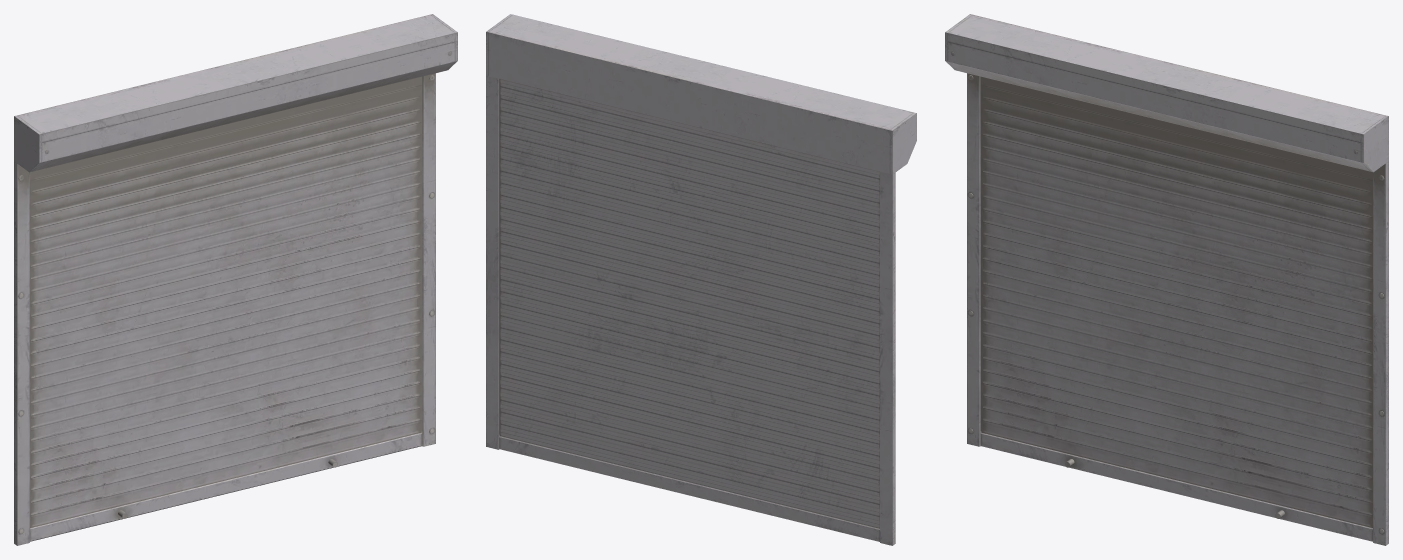
File: rollershutter_window_02.glb
The picture shows the model from 3 angles, left to right: view 1: azimuth 30°, elevation 25°; view 2: azimuth 150°, elevation 25°; view 3: azimuth 330°, elevation 25°; orthographic projection. The views are drawn at different scales.
Visible parts, largest first — view 1: rollershutter_window_02; view 2: rollershutter_window_02; view 3: rollershutter_window_02.
Part boxes in pixels (bbox=[...]): rollershutter_window_02: bbox=[14, 14, 457, 545]; rollershutter_window_02: bbox=[486, 14, 916, 545]; rollershutter_window_02: bbox=[945, 14, 1388, 545].
Bounding box in the file's own units: 1.6 × 1.56 × 0.168.
Materials: 1 (1 with a texture image).
